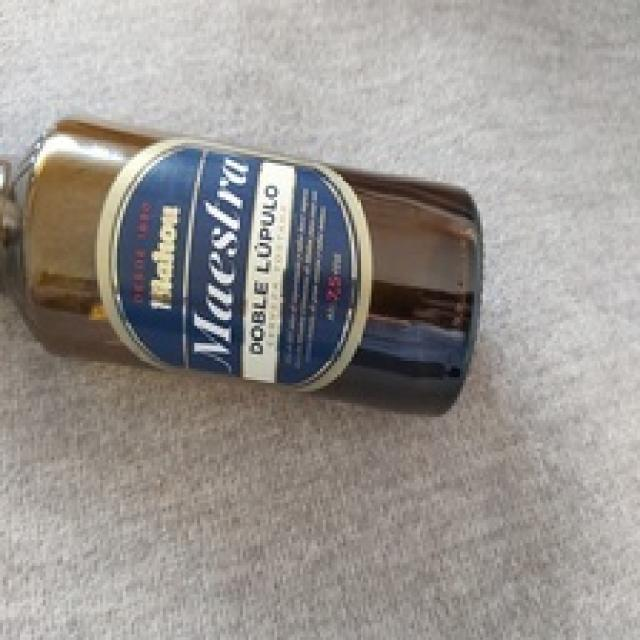Glass: (0, 115, 482, 417)
